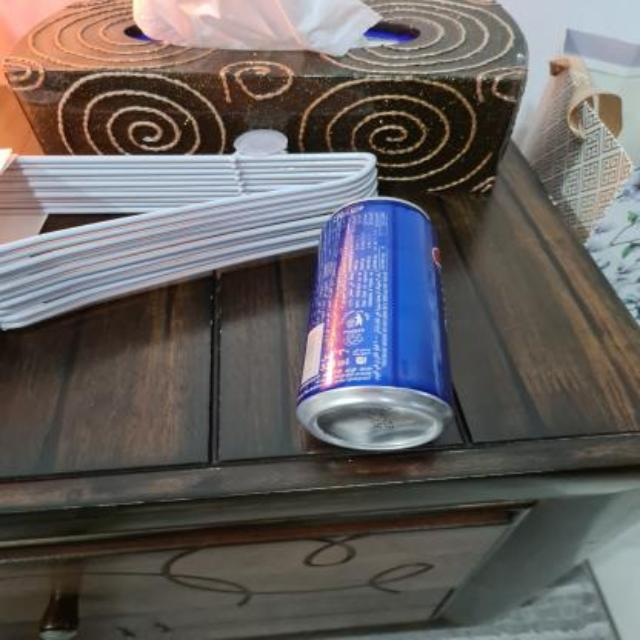cardboard paper: (134, 0, 380, 54)
metal: (295, 197, 457, 449)
